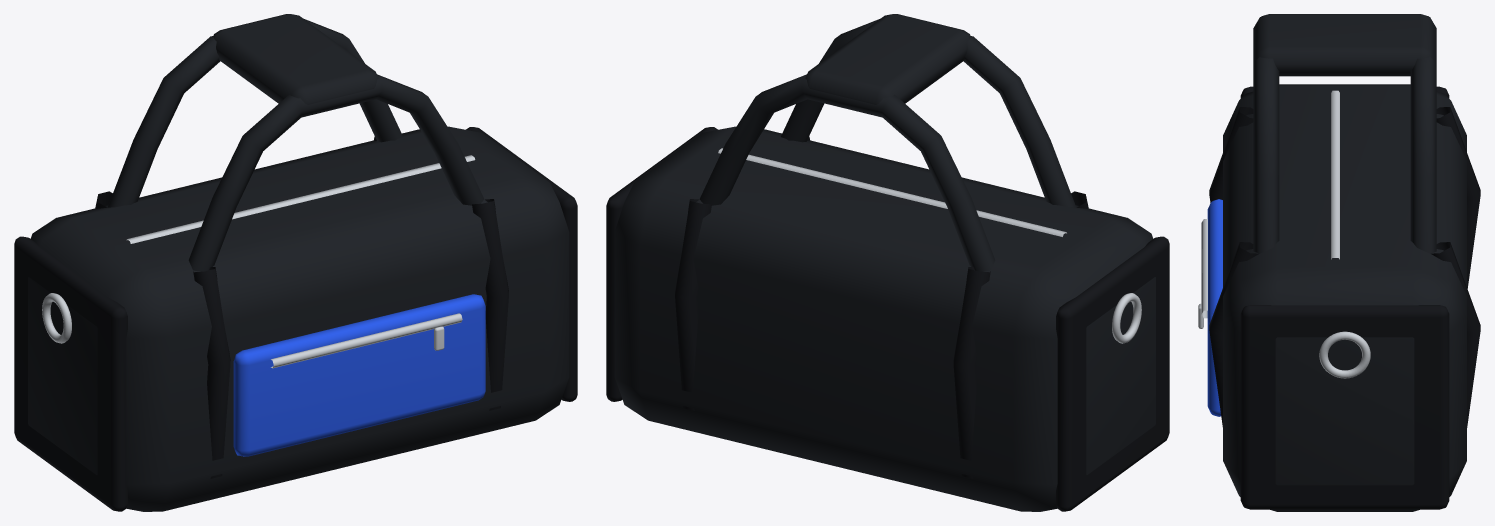
File: kit.glb
The picture shows the model from 3 angles, left to right: view 1: azimuth 30°, elevation 25°; view 2: azimuth 150°, elevation 25°; view 3: azimuth 270°, elevation 25°; orthographic projection.
Parts seen in each view (by area): view 1: SM_DuffelBody, SM_KitHandlePivot_LiftGraphite, SM_FrontPocket, SM_ModelGeometry_LiftInk, SM_ModelGeometry_LiftSilver; view 2: SM_DuffelBody, SM_KitHandlePivot_LiftGraphite, SM_ModelGeometry_LiftInk, SM_ModelGeometry_LiftSilver; view 3: SM_DuffelBody, SM_ModelGeometry_LiftInk, SM_KitHandlePivot_LiftGraphite, SM_ModelGeometry_LiftSilver, SM_FrontPocket.
Part boxes in pixels (bbox=[...]): SM_DuffelBody: bbox=[28, 126, 569, 511]; SM_KitHandlePivot_LiftGraphite: bbox=[107, 14, 484, 271]; SM_FrontPocket: bbox=[233, 294, 485, 456]; SM_ModelGeometry_LiftInk: bbox=[14, 127, 577, 511]; SM_ModelGeometry_LiftSilver: bbox=[42, 155, 475, 368]; SM_DuffelBody: bbox=[614, 126, 1155, 511]; SM_KitHandlePivot_LiftGraphite: bbox=[699, 14, 1076, 271]; SM_ModelGeometry_LiftInk: bbox=[606, 127, 1169, 511]; SM_ModelGeometry_LiftSilver: bbox=[718, 148, 1141, 343]; SM_DuffelBody: bbox=[1223, 84, 1466, 511]; SM_ModelGeometry_LiftInk: bbox=[1209, 86, 1480, 509]; SM_KitHandlePivot_LiftGraphite: bbox=[1253, 14, 1436, 253]; SM_ModelGeometry_LiftSilver: bbox=[1201, 90, 1370, 378]; SM_FrontPocket: bbox=[1207, 199, 1222, 416].
Bounding box in the file's own units: 2 × 1.54 × 1.01.
